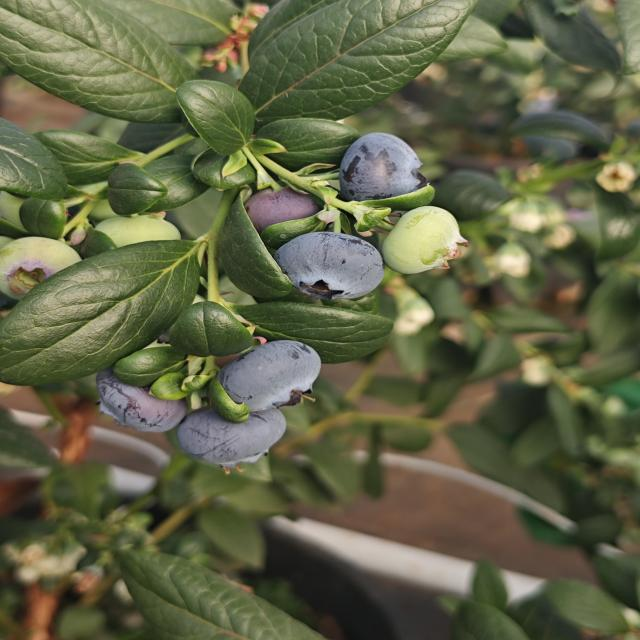ripe: (211, 338, 324, 417), (175, 399, 293, 472), (271, 230, 387, 304), (334, 131, 430, 205), (225, 180, 341, 238), (91, 364, 180, 431)
